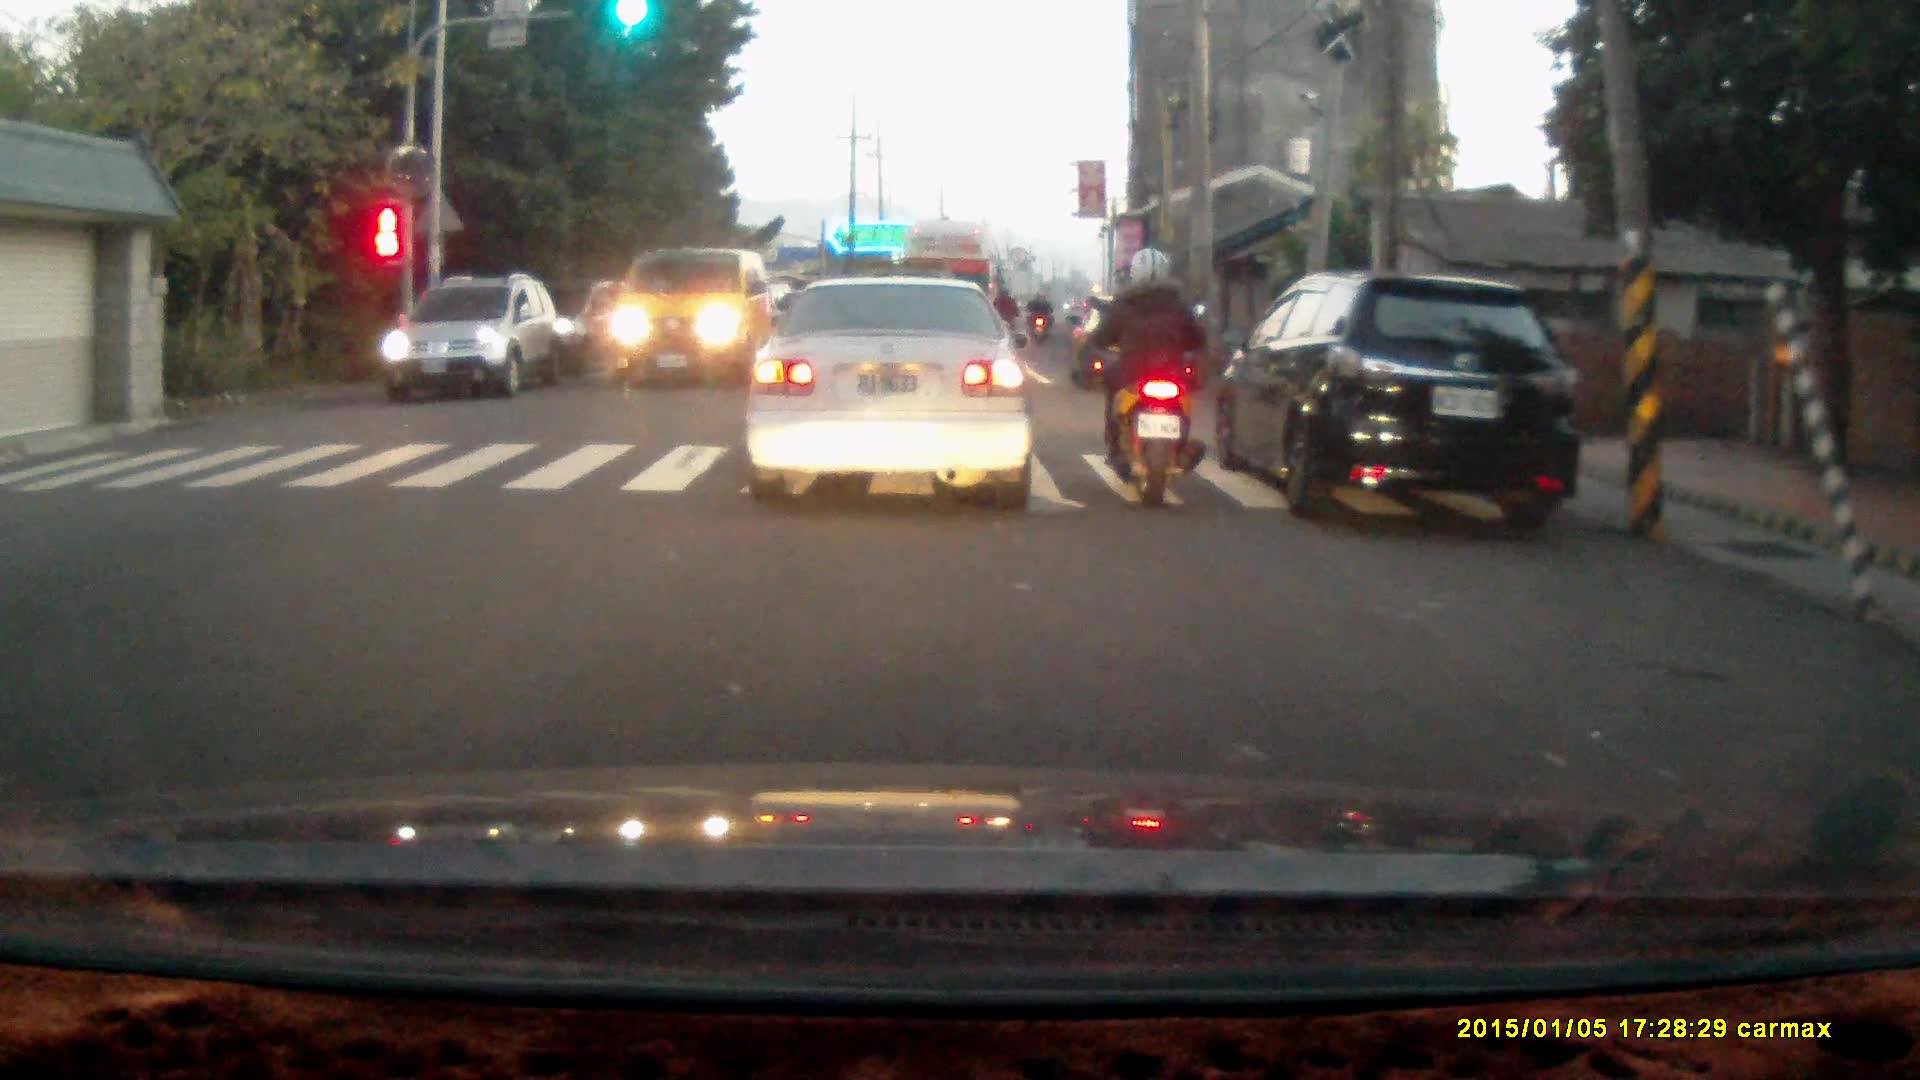rider: (1086, 245, 1207, 511)
vehicle: (1221, 264, 1588, 518), (745, 274, 1043, 513), (379, 274, 560, 407), (612, 251, 779, 391), (899, 223, 1009, 353), (1074, 292, 1199, 403)
